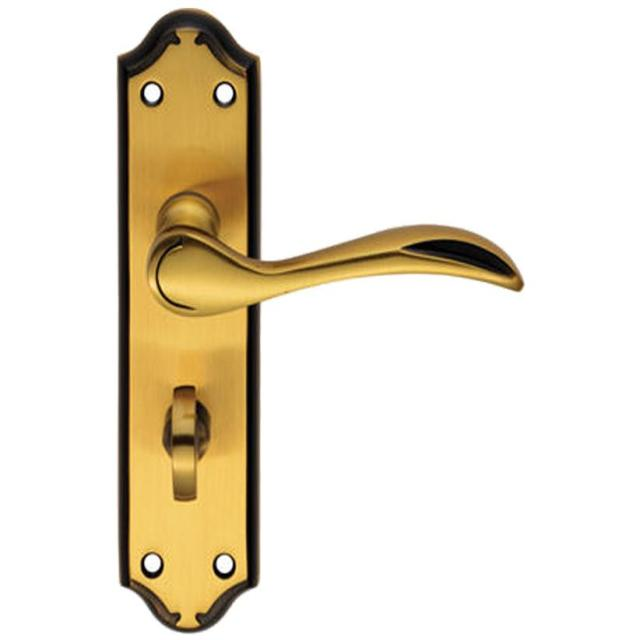doorhandle: (95, 168, 558, 357)
